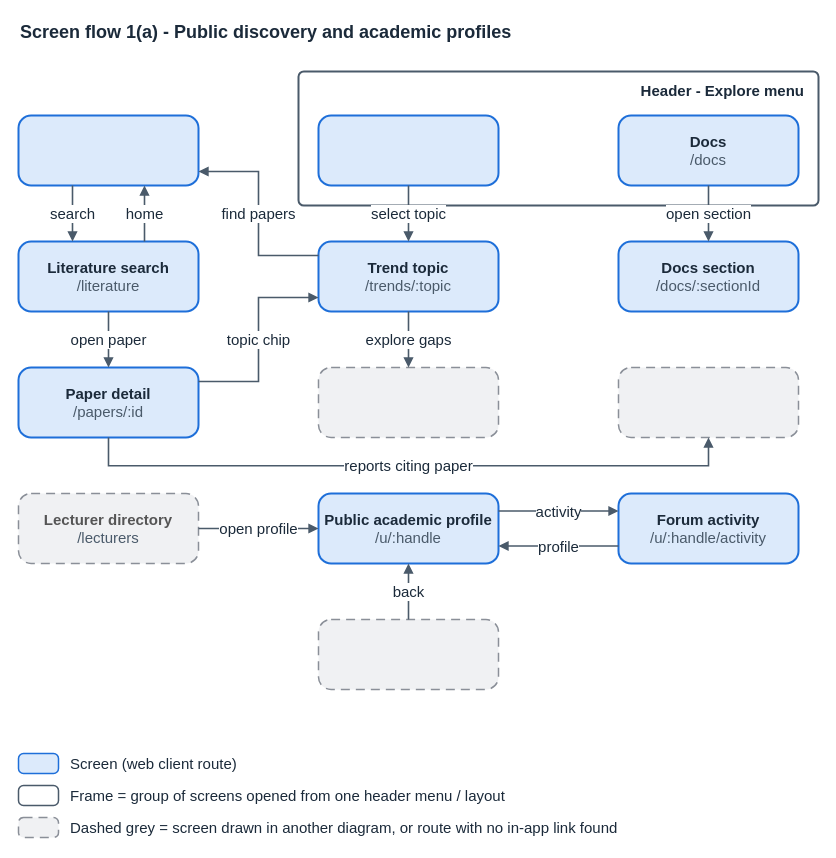
This 836x858 diagram has some shape labels left out. The shapes that lost their labels are listed below. From the top down, each one's centre as x and y in pixels, then its label:
At (x=108, y=150): "Home /home".
At (x=408, y=150): "Trends /trends".
At (x=408, y=402): "Research gaps /research-gaps".
At (x=708, y=402): "Reports /reports".
At (x=408, y=654): "Contribution archive /profile/:handle/contributions".
